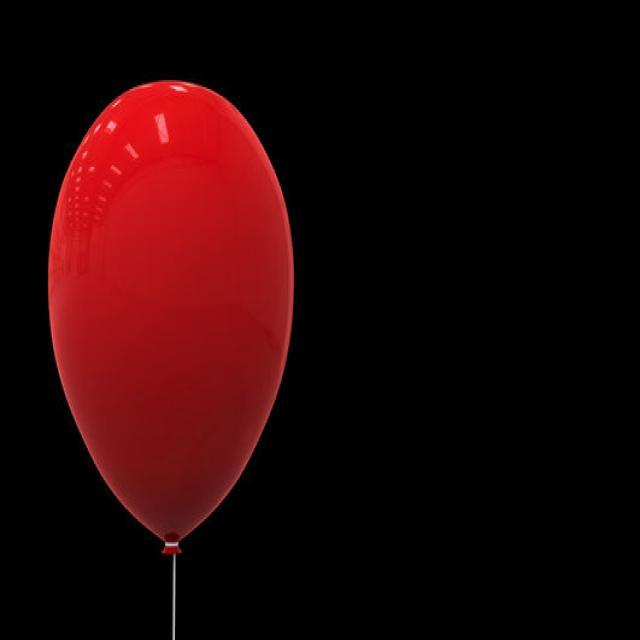red: (46, 78, 295, 556)
